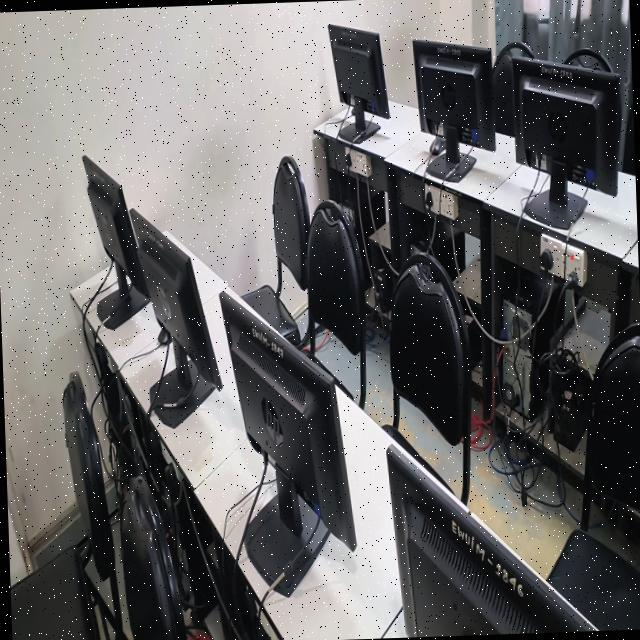Chair: (1, 369, 104, 640), (556, 325, 640, 615), (388, 252, 470, 502), (306, 199, 364, 355), (121, 477, 171, 640), (271, 154, 309, 289), (489, 41, 513, 132), (562, 47, 611, 71), (622, 97, 635, 174)
Cpu: (501, 299, 530, 414)
Monitor: (385, 444, 597, 637), (218, 290, 355, 548), (129, 208, 221, 423), (511, 59, 618, 222), (81, 155, 147, 327), (412, 38, 494, 149), (328, 24, 388, 142)
